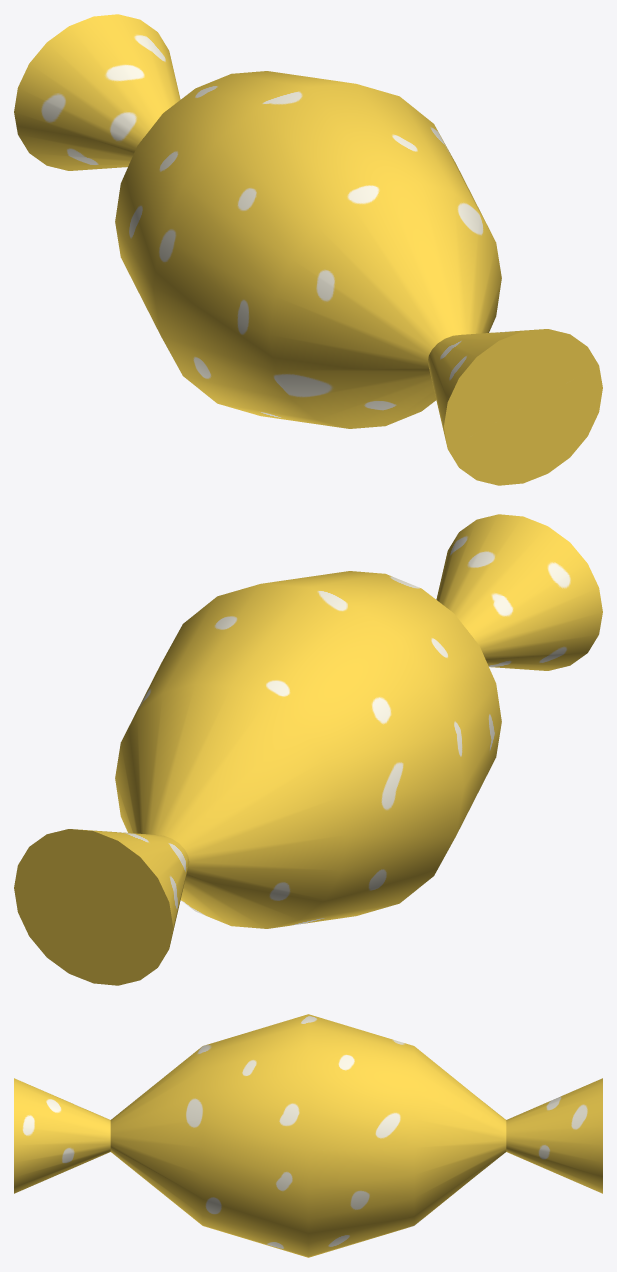
The model's file is Candy.fbx.
3 views of the same model, one above another, from view 1: azimuth 30°, elevation 25°; view 2: azimuth 150°, elevation 25°; view 3: azimuth 270°, elevation 25° (orthographic). The views are drawn at different scales.
Parts seen in each view (by area): view 1: pCylinder2; view 2: pCylinder2; view 3: pCylinder2.
Part boxes in pixels (box(x1,y1,x2,y2)): pCylinder2: box(14, 14, 602, 485); pCylinder2: box(14, 514, 602, 985); pCylinder2: box(14, 1014, 602, 1257).
Size of the model in its own units: 1.13 by 1.13 by 2.7.
Materials: 1 (1 with a texture image).
